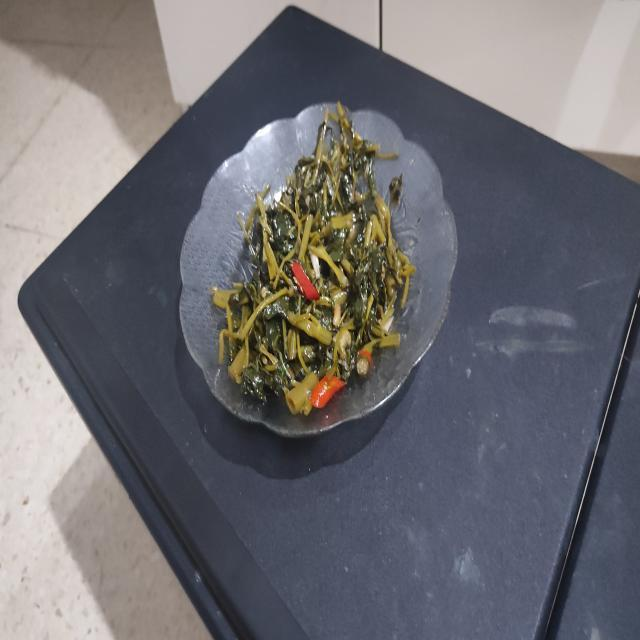tumis_kangkung: (212, 104, 410, 415)
